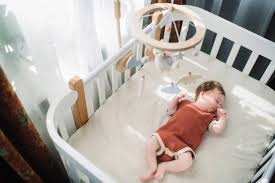baby: (140, 80, 226, 181)
crib: (46, 5, 274, 182)
